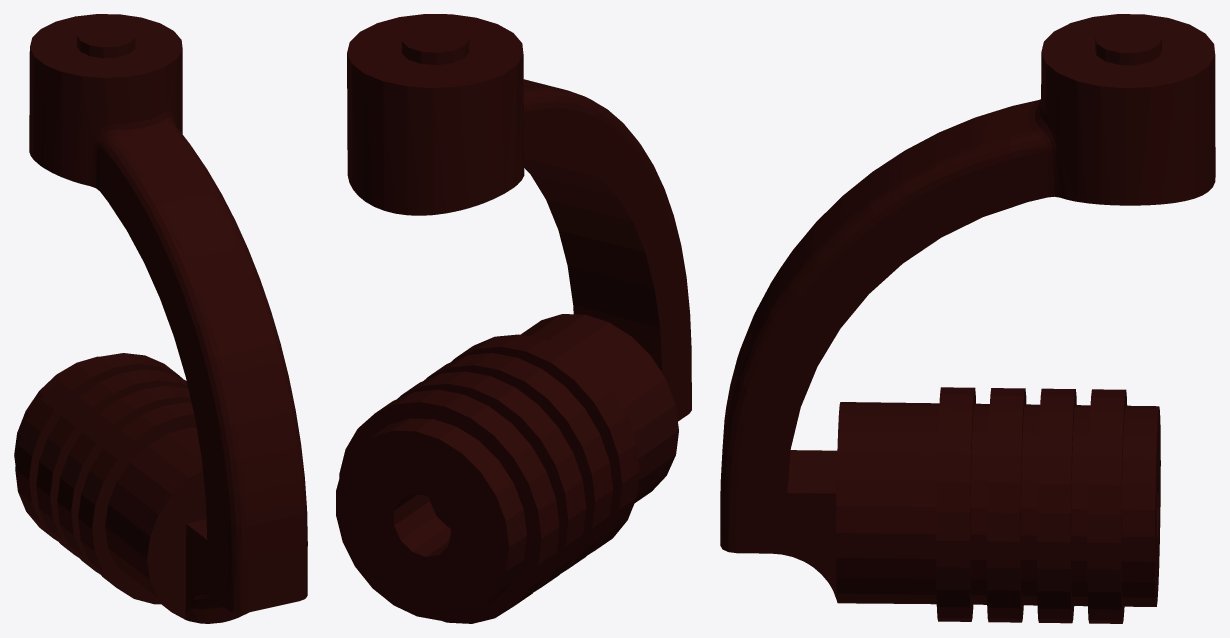
File: Mars6Mars_Rover__Curiosity_1_0__-_33_Front_Wheel_Servo_mech.005.dae
3 renders of one model, left to right at view 1: azimuth 30°, elevation 25°; view 2: azimuth 150°, elevation 25°; view 3: azimuth 270°, elevation 25°, orthographic. The views are drawn at different scales.
Visible parts, largest first — view 1: tmp_export_Mars6Mars_Rover__Curiosity_1_0__-_33_Front_Wheel_; view 2: tmp_export_Mars6Mars_Rover__Curiosity_1_0__-_33_Front_Wheel_; view 3: tmp_export_Mars6Mars_Rover__Curiosity_1_0__-_33_Front_Wheel_.
Boxes of the visible parts, x1=… form: tmp_export_Mars6Mars_Rover__Curiosity_1_0__-_33_Front_Wheel_: x1=14, y1=14, x2=307, y2=623; tmp_export_Mars6Mars_Rover__Curiosity_1_0__-_33_Front_Wheel_: x1=336, y1=14, x2=691, y2=623; tmp_export_Mars6Mars_Rover__Curiosity_1_0__-_33_Front_Wheel_: x1=720, y1=14, x2=1215, y2=623.
Size of the model in its own units: 0.05 by 0.1034 by 0.1326.
